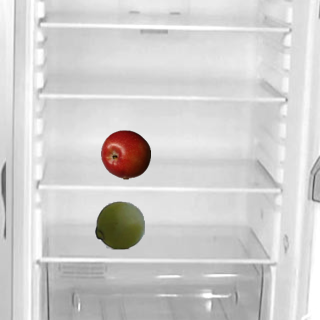Apple Braeburn: (100, 129, 150, 179)
Grape White 4: (94, 199, 144, 249)
